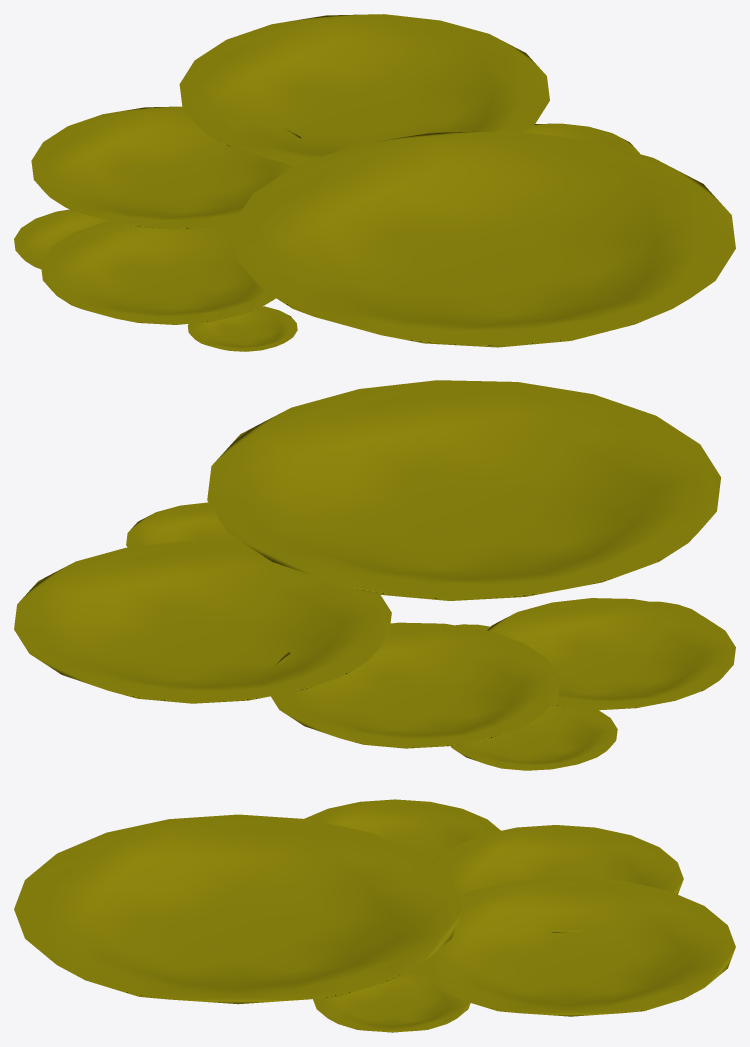
Rendered from mush_plates.glb.
3 renders of one model, top to bottom at view 1: azimuth 30°, elevation 25°; view 2: azimuth 150°, elevation 25°; view 3: azimuth 270°, elevation 25°, orthographic. The views are drawn at different scales.
Visible parts, largest first — view 1: mush_plates; view 2: mush_plates; view 3: mush_plates.
Boxes of the visible parts, bbox=[...] form: mush_plates: bbox=[14, 14, 735, 351]; mush_plates: bbox=[14, 380, 735, 770]; mush_plates: bbox=[14, 799, 735, 1032].
Size of the model in its own units: 2.6 by 0.3576 by 3.22.
